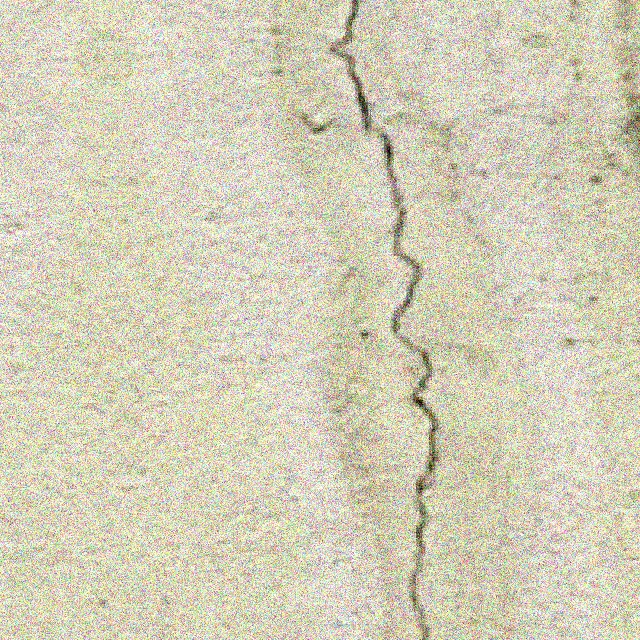SurfaceCrack: (288, 0, 476, 640)
